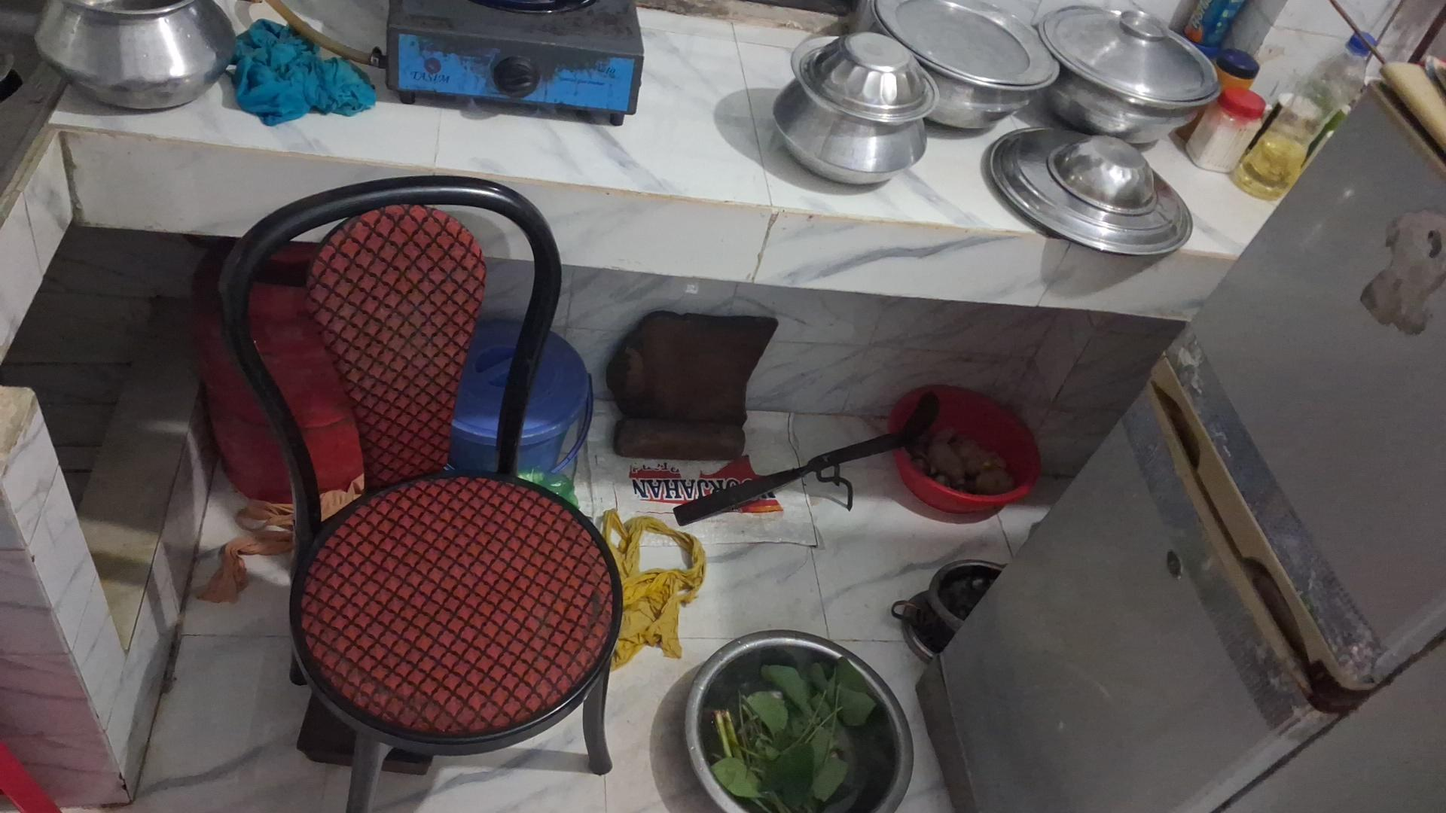Bottle: (1239, 22, 1368, 209)
Bowl: (684, 630, 915, 811), (887, 382, 1043, 518)
Chair: (197, 177, 626, 804)
Jar: (1181, 81, 1266, 175)
Pot: (871, 1, 1061, 131), (1043, 5, 1208, 148), (32, 1, 237, 111), (780, 39, 929, 174)
